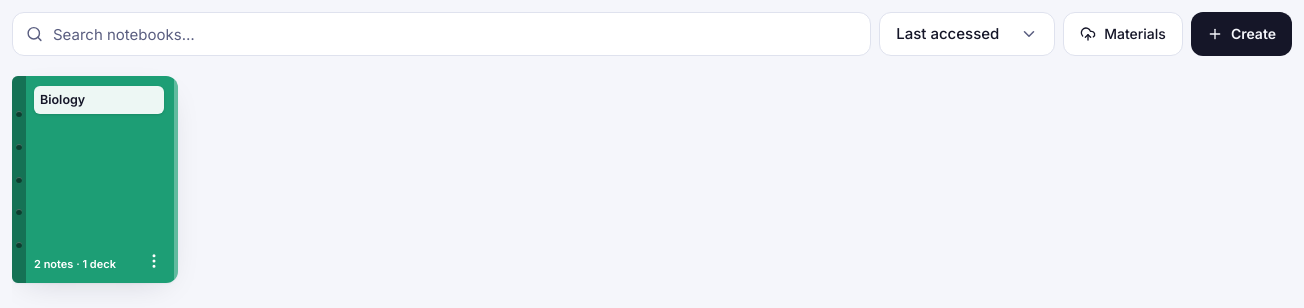
Scenario: LibraryOverview › pressing and holding a notebook opens the same menu as its ⋮ button
Right-click the link "Biology 2 notes · 1 deck".
right_click(95, 180)  # box 12,76 -> 178,283
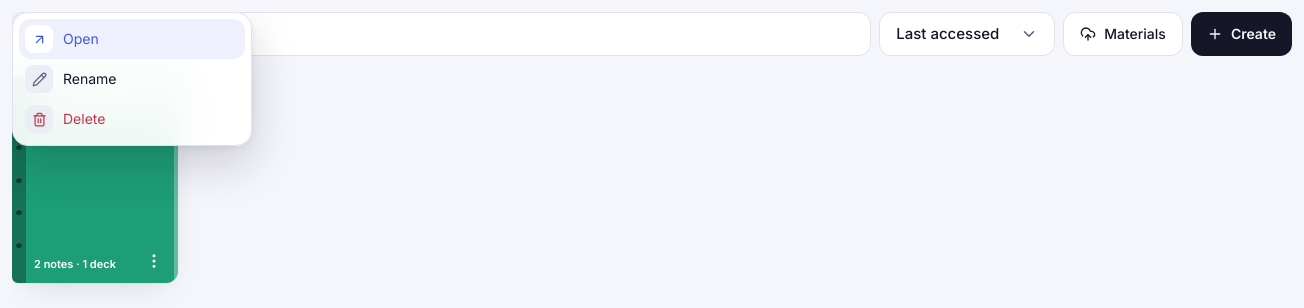
Check: the menu item "Rename" is shown, box 19,59 -> 245,99
